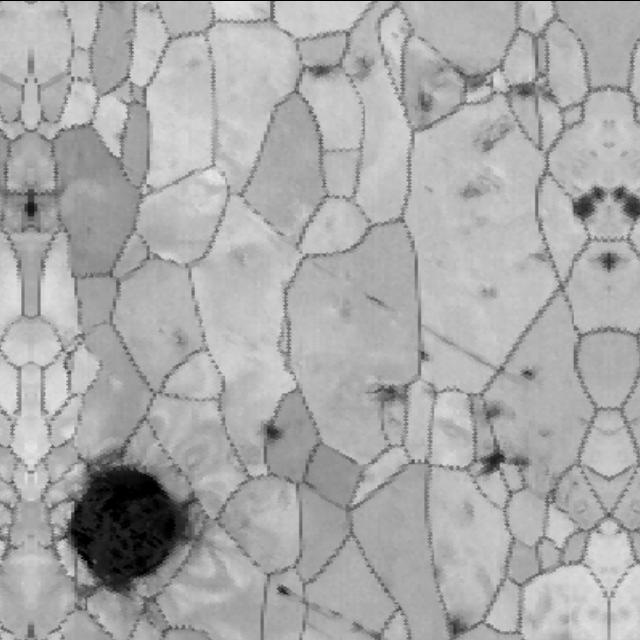good_void: (67, 445, 204, 603), (560, 184, 610, 230), (433, 58, 492, 96), (469, 111, 511, 157), (465, 453, 539, 477), (372, 370, 410, 408), (610, 184, 640, 230), (307, 54, 344, 88), (463, 170, 503, 201), (410, 83, 436, 123), (276, 580, 310, 608), (260, 415, 284, 454), (479, 398, 517, 422), (442, 612, 471, 640), (158, 326, 193, 349), (365, 292, 395, 312), (508, 77, 537, 97), (482, 281, 502, 299), (532, 249, 555, 264), (410, 350, 429, 368), (597, 249, 610, 273), (610, 249, 623, 273), (518, 370, 539, 378)
